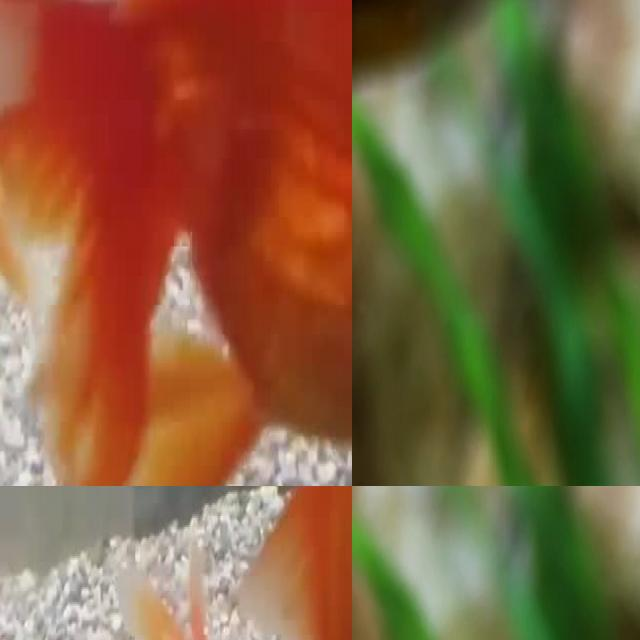fish: (0, 0, 352, 486), (352, 0, 520, 192)
